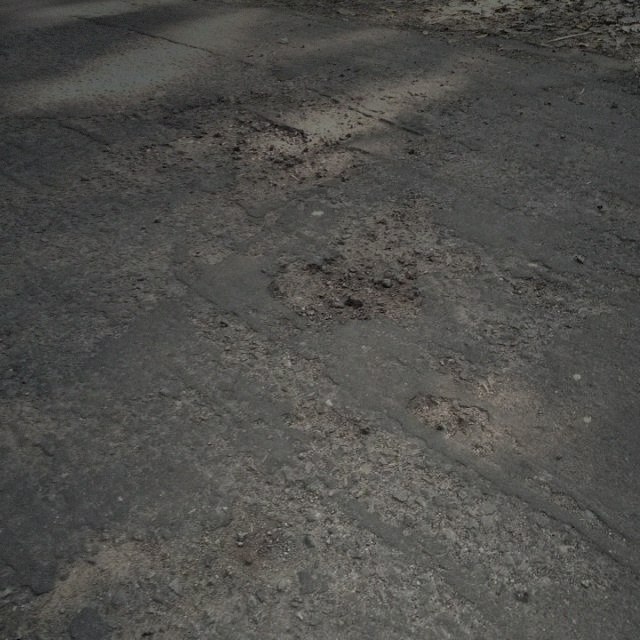pothole: (266, 252, 428, 332), (228, 120, 356, 197), (404, 390, 490, 438)
